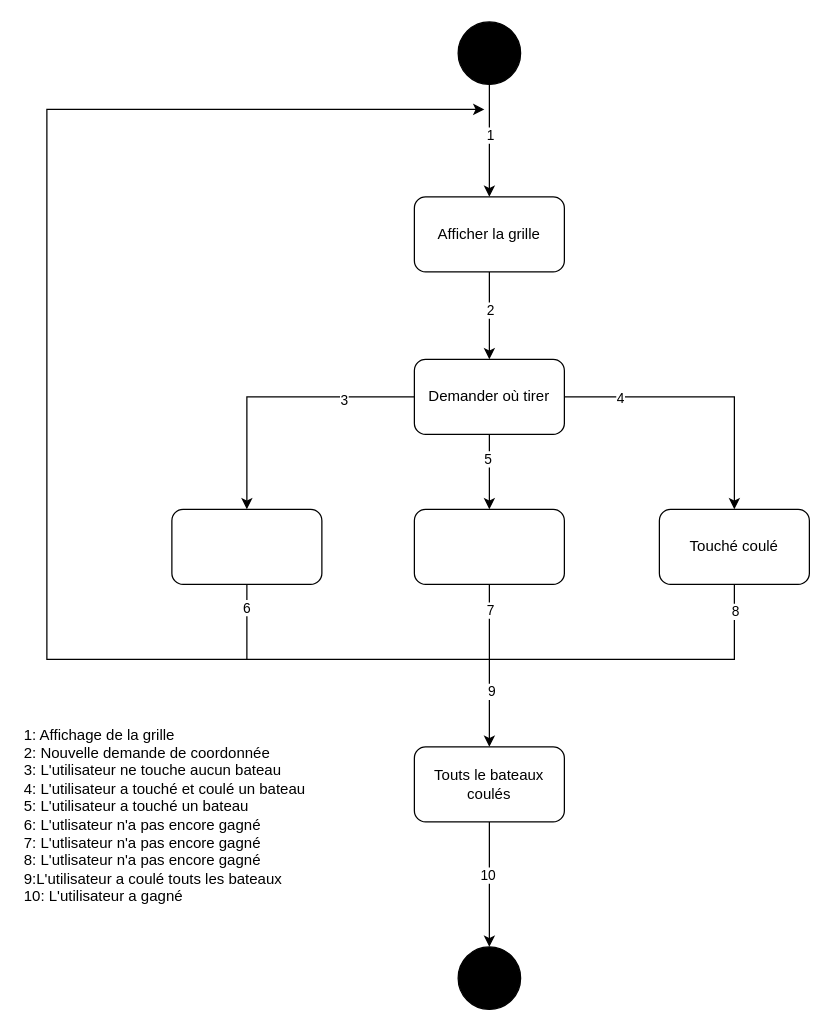
Some shapes in this 831 by 1031 pixel diagram are drawn without their labels. The centre of each missing label's shape, as x and y in pixels:
"Rater" belongs at (246,546).
"Touché" belongs at (488,546).
